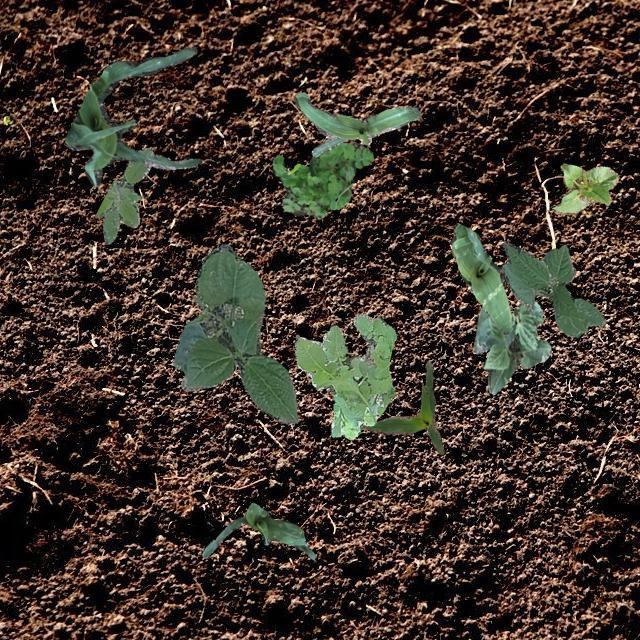crop: (170, 242, 296, 422), (64, 46, 200, 186), (500, 240, 604, 336), (294, 92, 419, 156), (361, 359, 444, 454), (472, 300, 550, 392), (449, 222, 512, 334), (200, 502, 314, 558), (552, 162, 618, 214)
weed: (294, 312, 396, 438), (272, 142, 372, 218), (94, 146, 152, 244)
